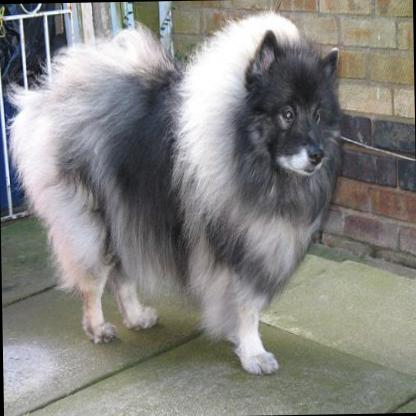keeshond: (3, 8, 343, 378)
